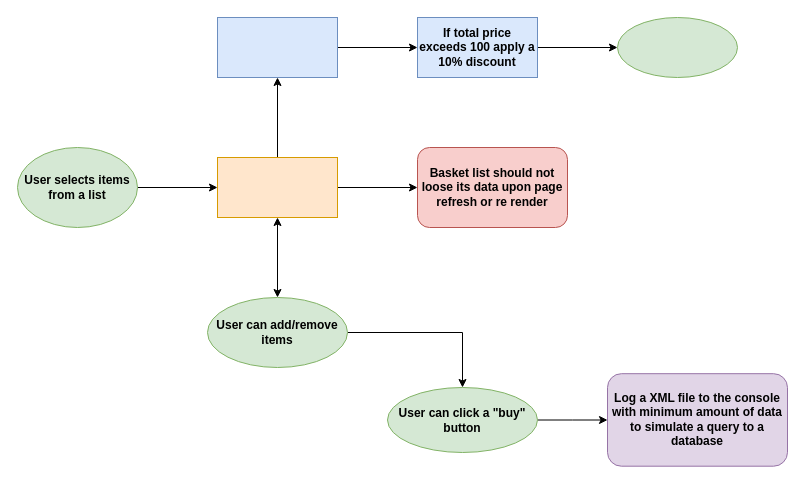
This 805x484 diagram has some shape labels left out. The shapes that lost their labels are listed below. From the top down, each one's centre as x and y in pixels, then its label:
At point (277, 47): "Basket should display total price".
At point (677, 47): "Notify user for the discount".
At point (277, 187): "BASKET Items list".
